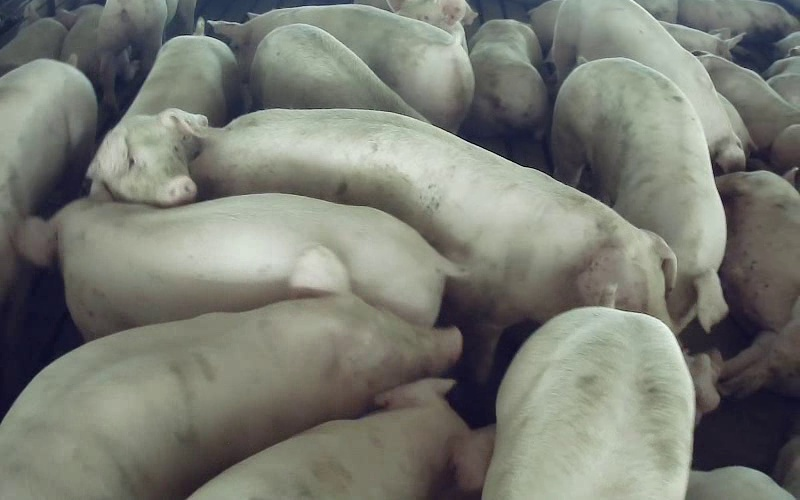pig: (189, 110, 675, 380), (0, 249, 460, 497), (483, 307, 694, 499), (190, 379, 493, 499), (209, 4, 473, 132), (552, 0, 745, 172), (87, 18, 240, 206), (0, 60, 96, 306), (717, 171, 799, 395), (463, 20, 547, 139)
